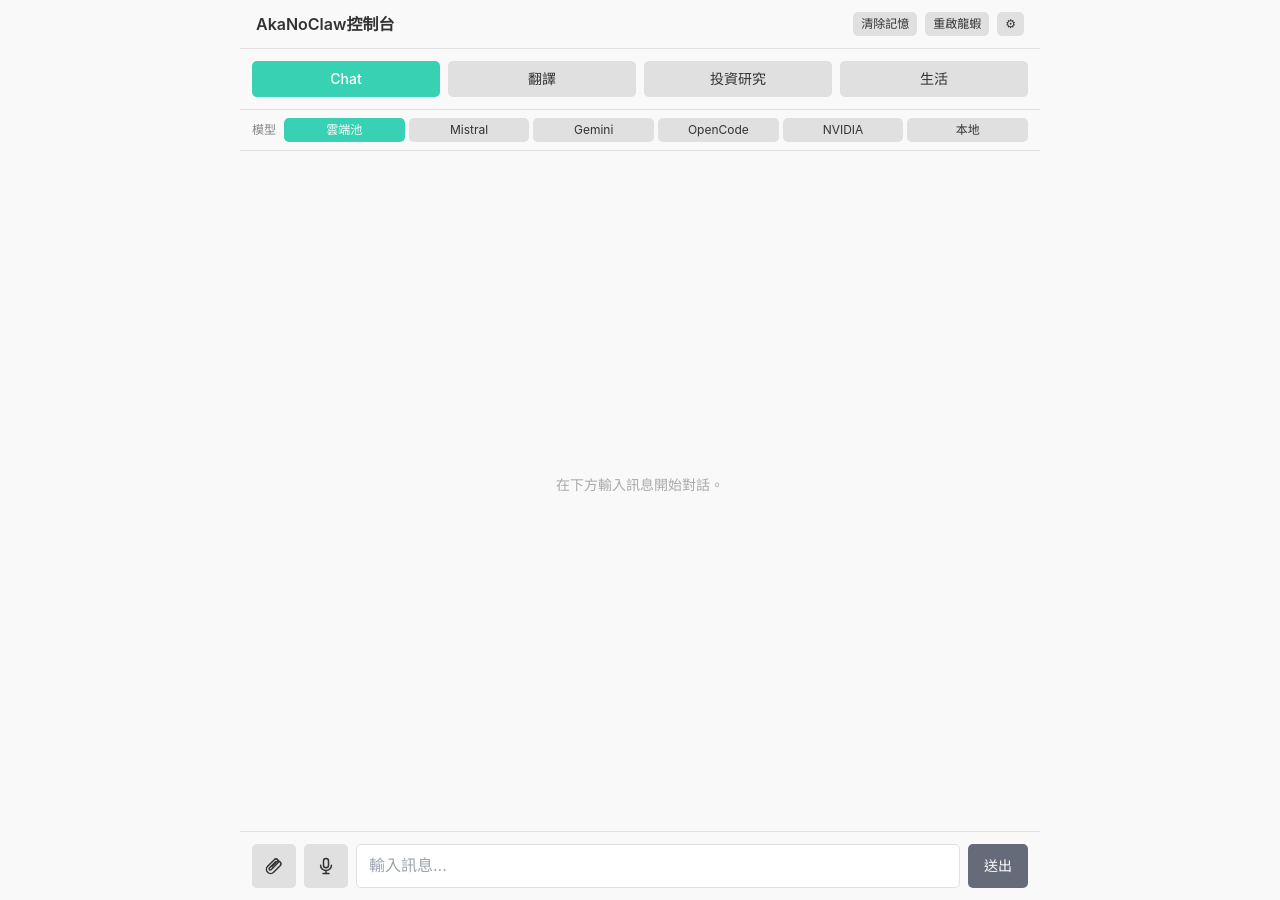
Scenario: App — chat settings › shows local reload failure while keeping the settings save result visible
The image size is (1280, 900).
Click the button named "聊天模型設定" at (1011, 24), box [997,12,1024,36]
(page scrolled)
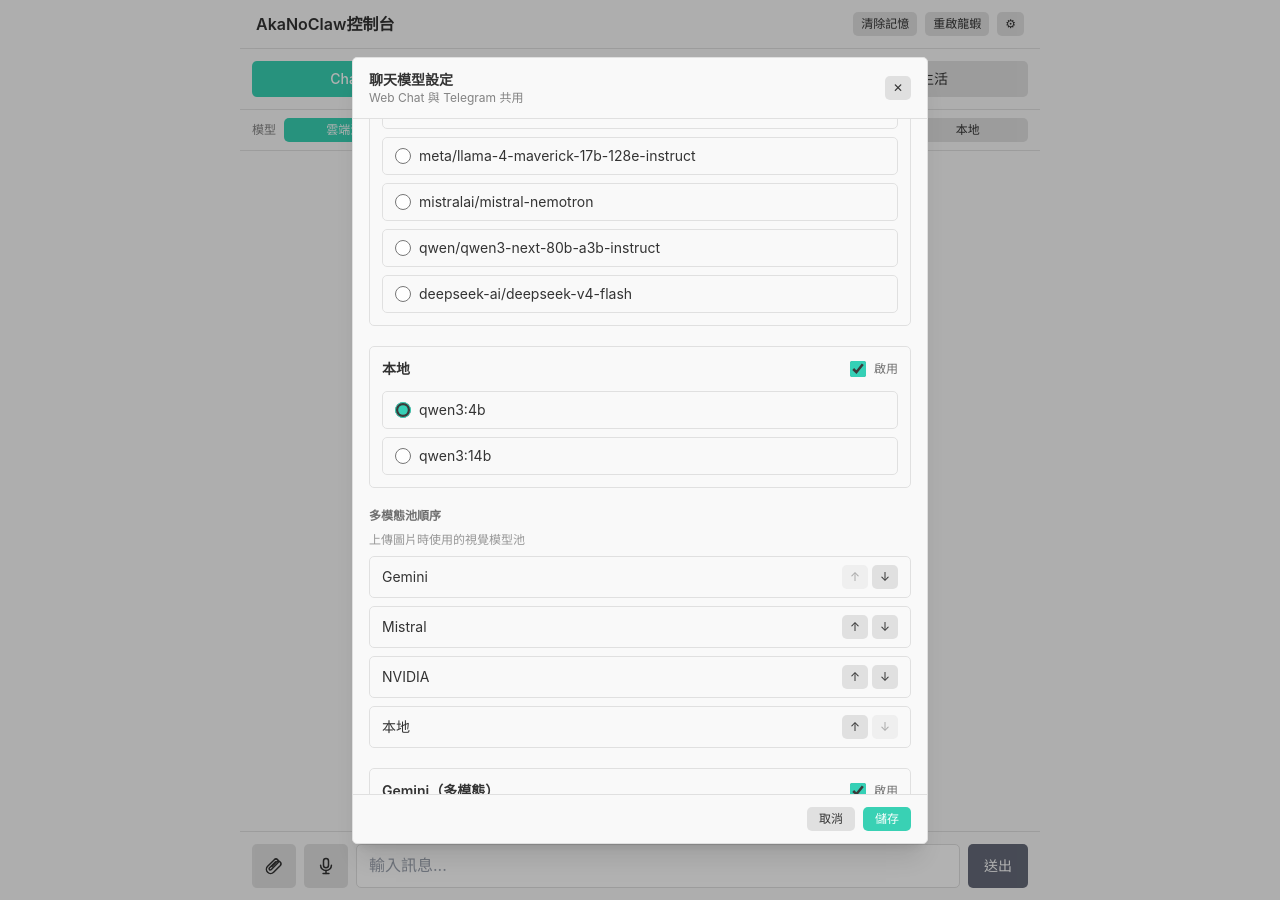
Expected: the heading "聊天模型設定" is shown, [369,70,453,88]
Click the radio button labelled "qwen3:14b" at (403, 456), box [395,448,411,464]
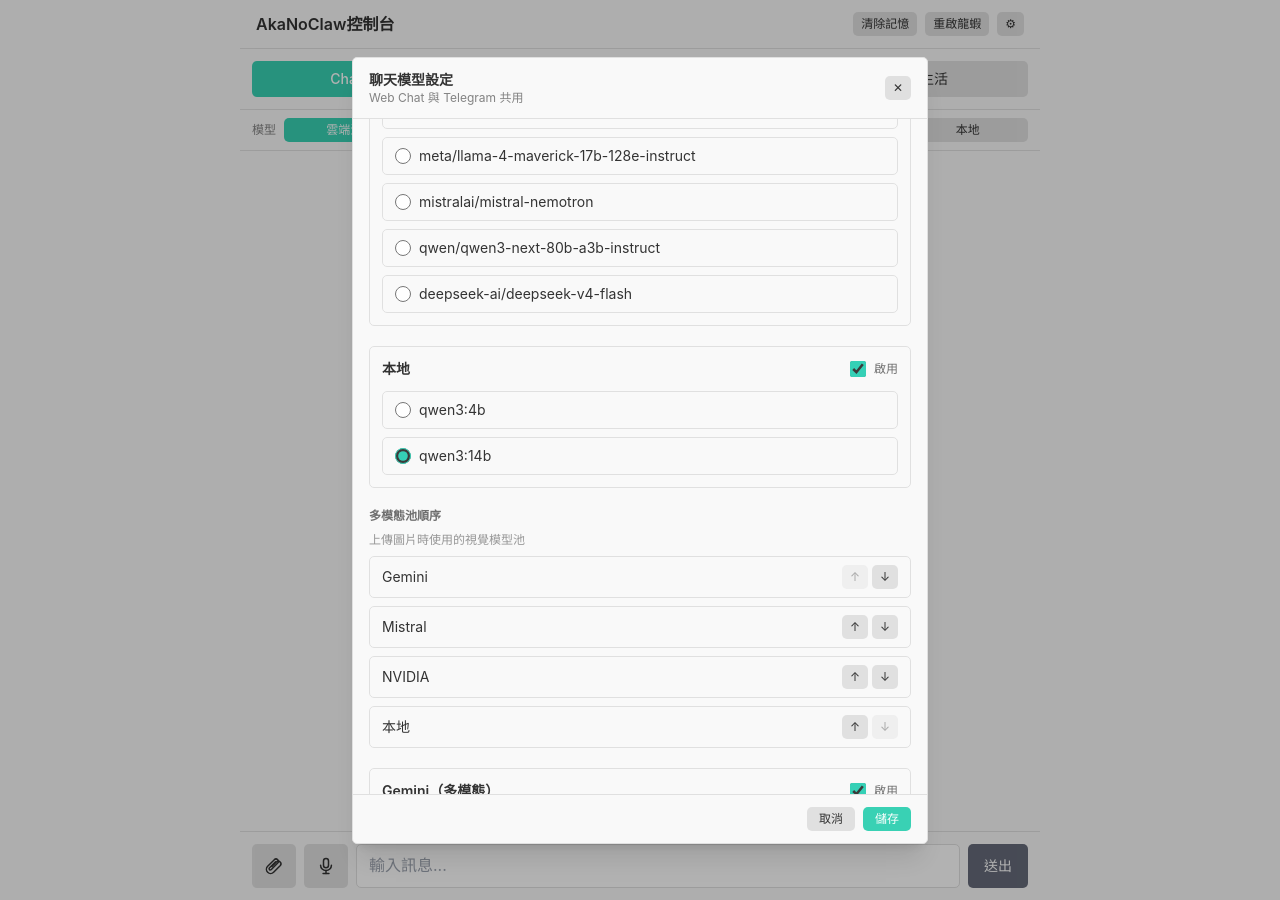
Click the button "儲存" at (887, 818), box [863,806,911,830]
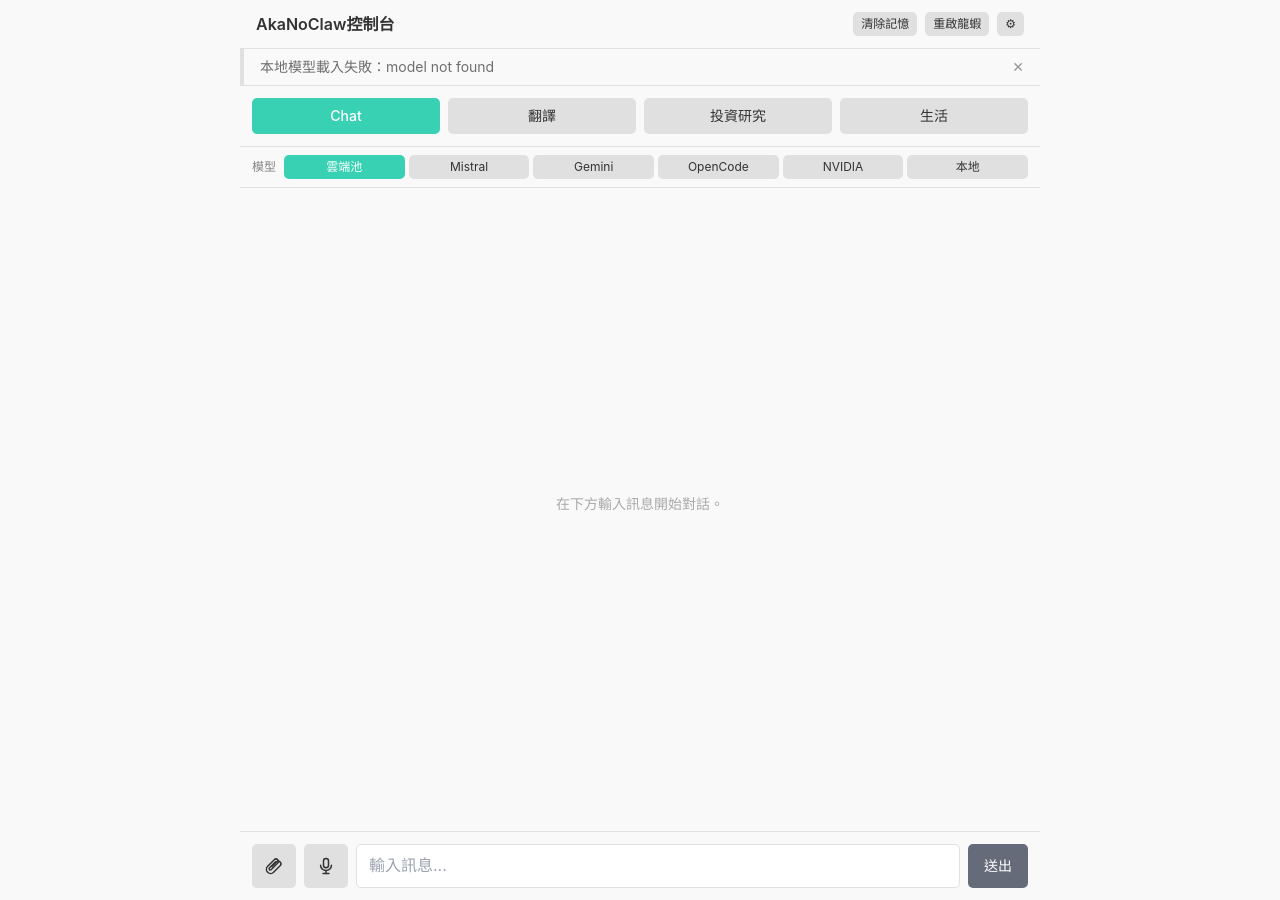
Expected: the text "本地模型載入失敗：model not found" is shown, [260,57,494,77]
